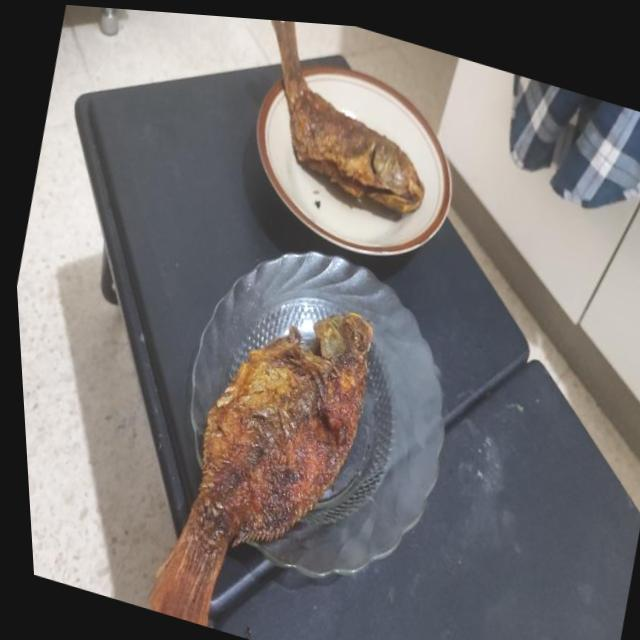ikan_mujair: (149, 312, 372, 626), (271, 20, 424, 213)
